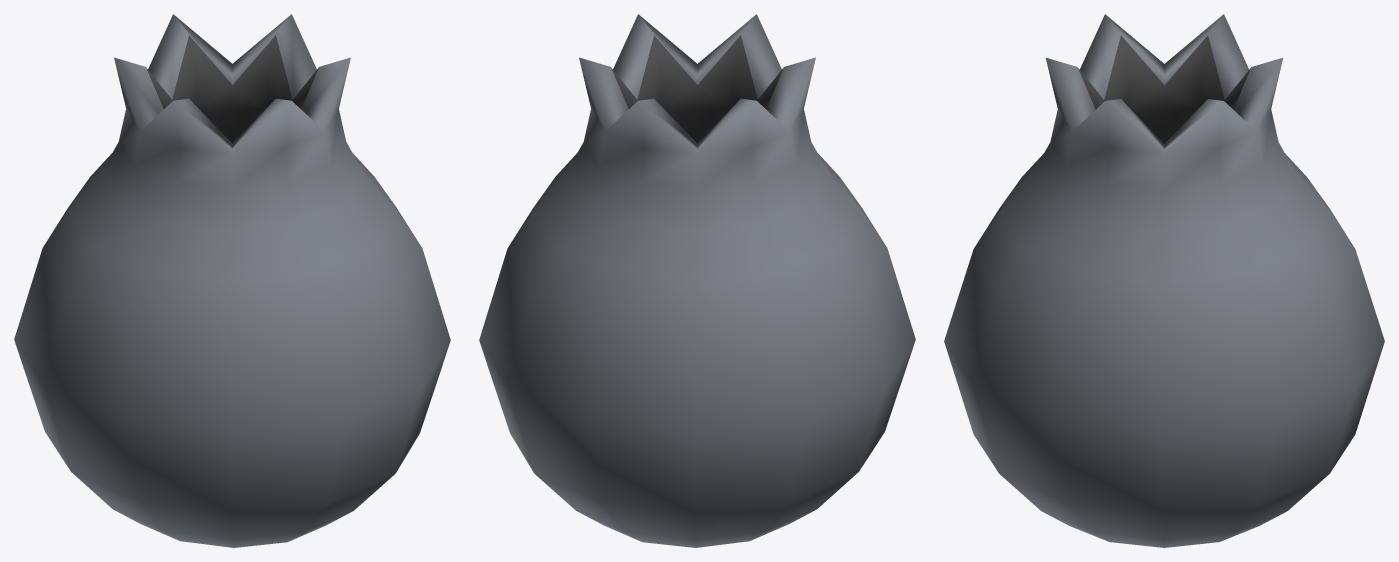
File: Bud_acc_02.FBX
3 views of the same model, side by side, from view 1: azimuth 30°, elevation 25°; view 2: azimuth 150°, elevation 25°; view 3: azimuth 270°, elevation 25° (orthographic).
Parts seen in each view (by area): view 1: Bud_acc_02; view 2: Bud_acc_02; view 3: Bud_acc_02.
Part boxes in pixels (x1,y1,x2,y2): Bud_acc_02: (14,14,450,547); Bud_acc_02: (479,14,915,547); Bud_acc_02: (944,14,1384,547).
Size of the model in its own units: 42.71 by 48.09 by 43.09.
